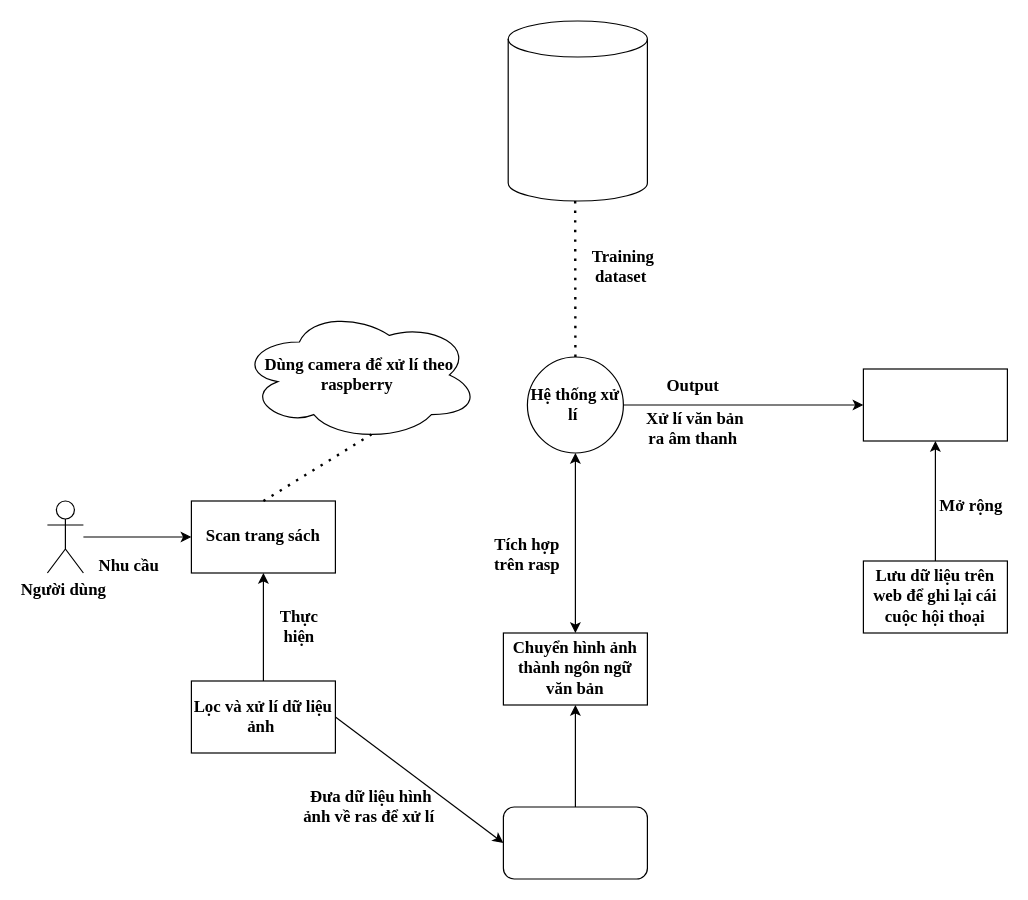
Some shapes in this 1028 by 900 pixel diagram are drawn without their labels. Here are the shapes that lost their labels. From the top down, the box of each, then its label:
(507, 20, 647, 201): Dataset về ngôn ngữ Việt Nam
(862, 368, 1007, 441): Phát ra loa cho người đọc
(502, 806, 647, 879): RaspberryPI
